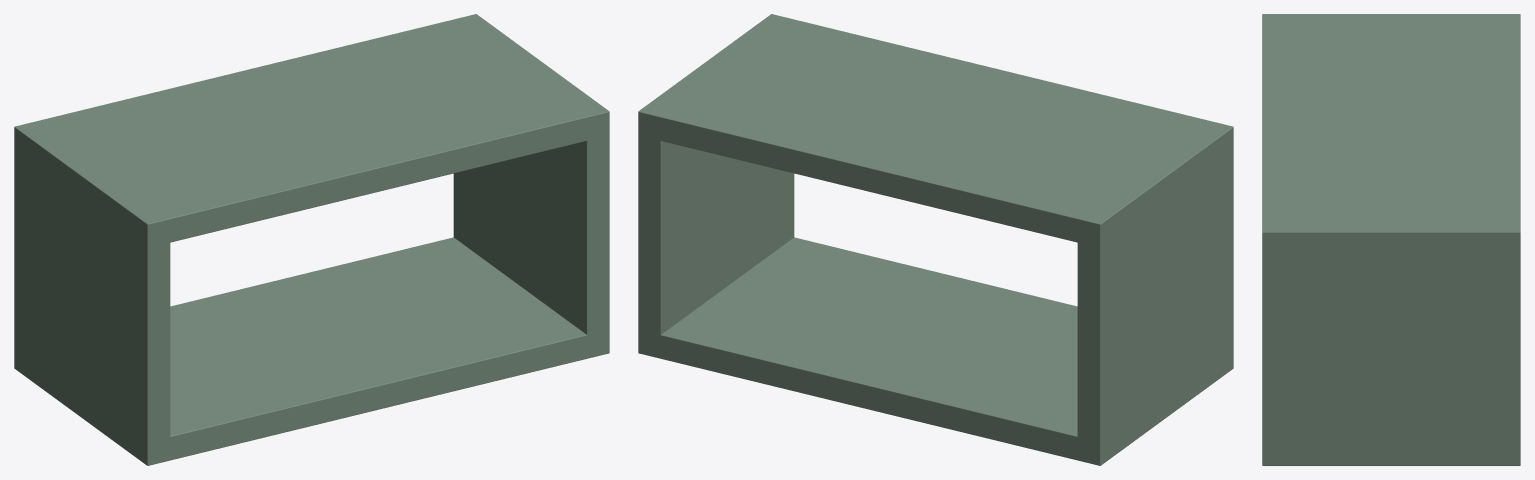
File: MODH_1X05_A_O_VA.glb
The picture shows the model from 3 angles, left to right: view 1: azimuth 30°, elevation 25°; view 2: azimuth 150°, elevation 25°; view 3: azimuth 270°, elevation 25°; orthographic projection. The views are drawn at different scales.
Size of the model in its own units: 360 by 180 by 180.
